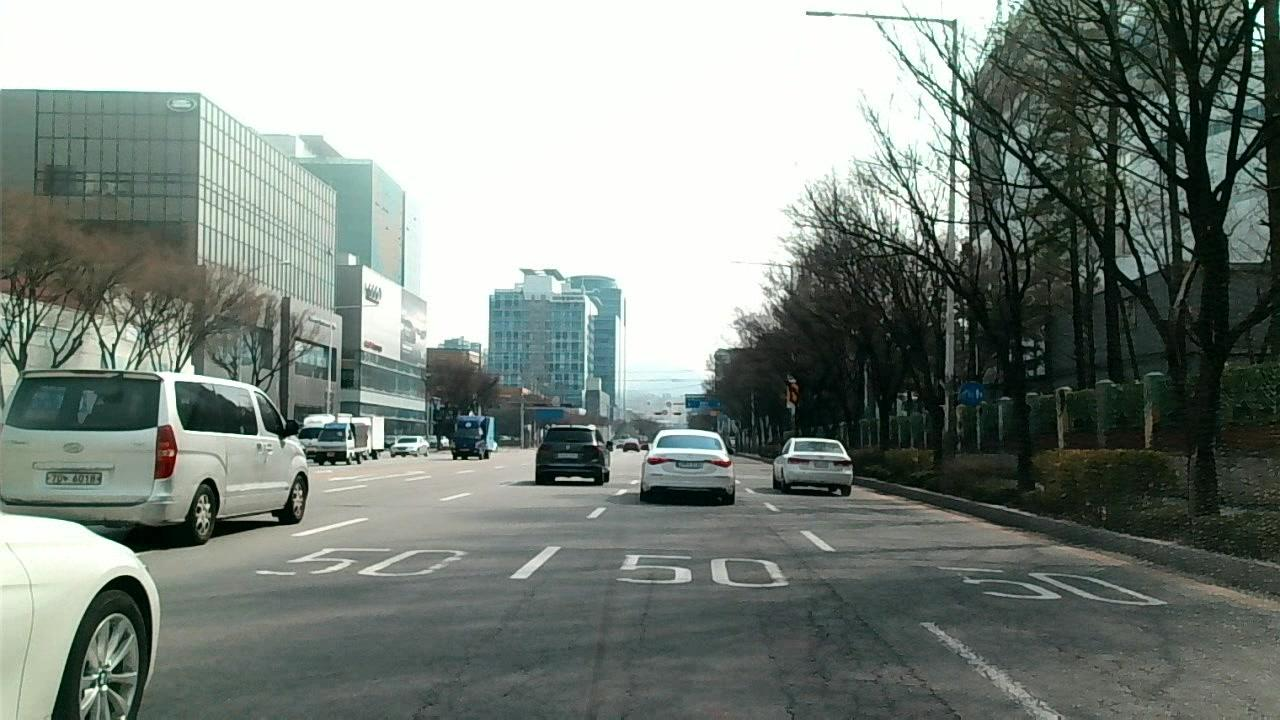banner: (834, 593, 961, 718), (777, 602, 871, 720), (1054, 642, 1178, 720)
